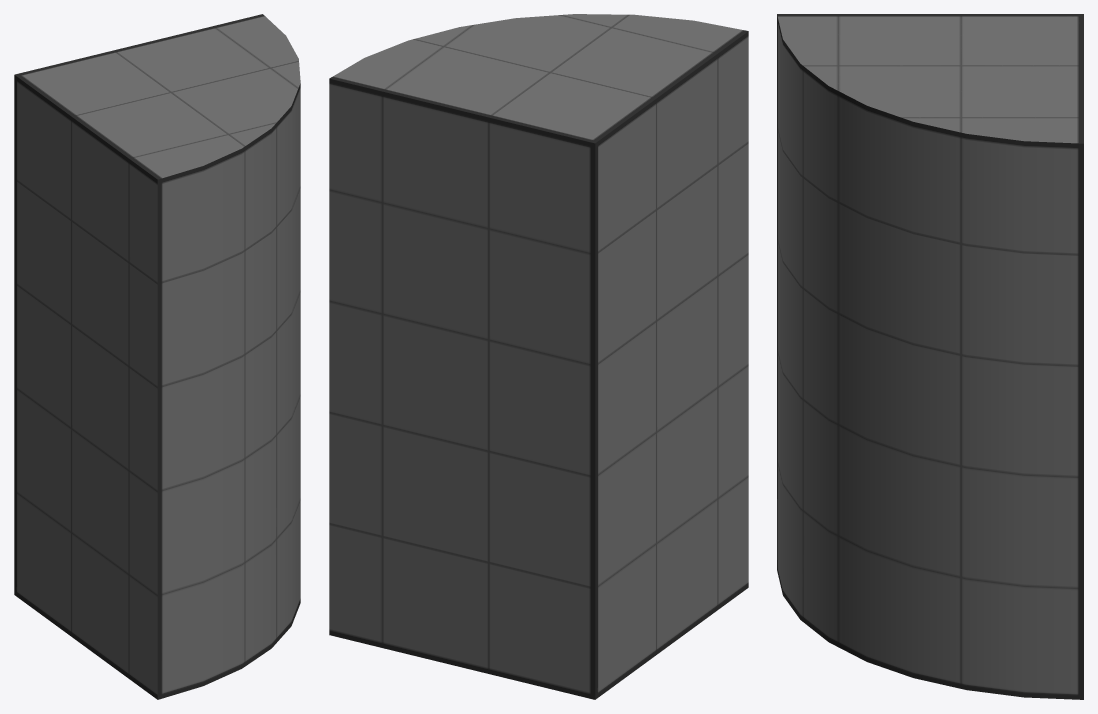
Rendered from quarter_cylinder_unreal.gltf.
3 views of the same model, side by side, from view 1: azimuth 30°, elevation 25°; view 2: azimuth 150°, elevation 25°; view 3: azimuth 270°, elevation 25° (orthographic). The views are drawn at different scales.
Visible parts, largest first — view 1: SM_QuarterCylinder; view 2: SM_QuarterCylinder; view 3: SM_QuarterCylinder.
Boxes of the visible parts, x1,y1,x2,y2 form: SM_QuarterCylinder: (14, 14, 300, 699); SM_QuarterCylinder: (329, 14, 748, 699); SM_QuarterCylinder: (777, 14, 1083, 699).
Size of the model in its own units: 0.5 by 1 by 0.5.
1 material, 1 textured.
